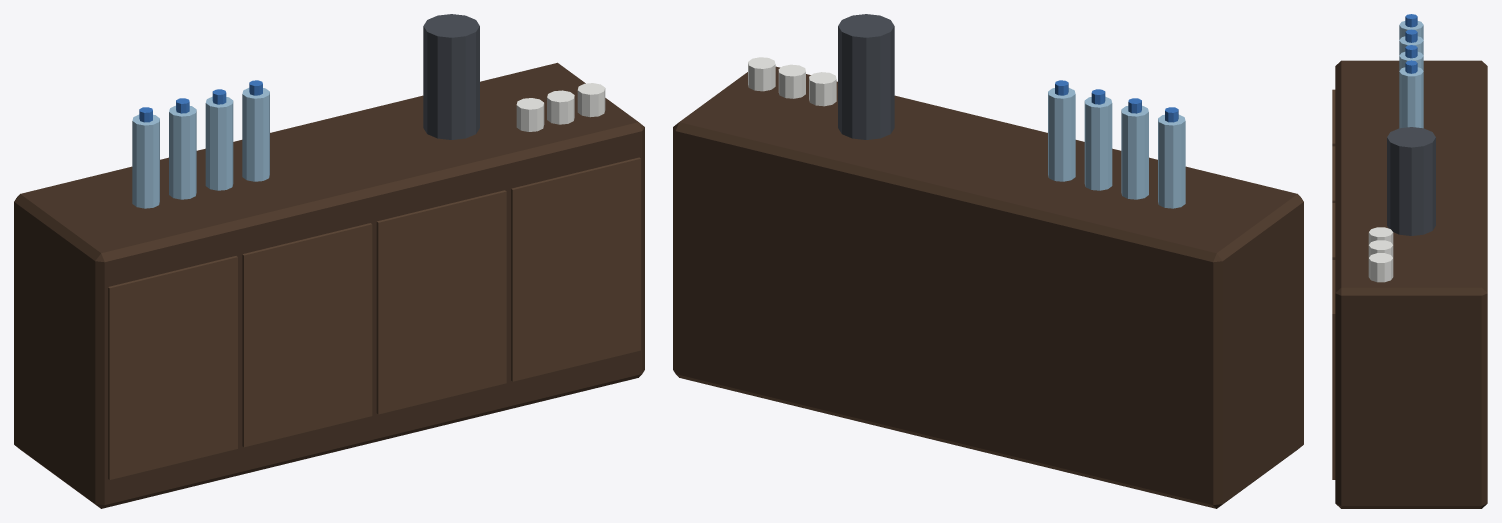
The model's file is sideboard.glb.
3 views of the same model, side by side, from view 1: azimuth 30°, elevation 25°; view 2: azimuth 150°, elevation 25°; view 3: azimuth 270°, elevation 25° (orthographic). The views are drawn at different scales.
Parts seen in each view (by area): view 1: sideboard_mesh; view 2: sideboard_mesh; view 3: sideboard_mesh.
Boxes of the visible parts, bbox=[...] form: sideboard_mesh: bbox=[14, 14, 644, 508]; sideboard_mesh: bbox=[673, 14, 1303, 508]; sideboard_mesh: bbox=[1332, 14, 1487, 508].
Size of the model in its own units: 1.8 by 1.12 by 0.51.
